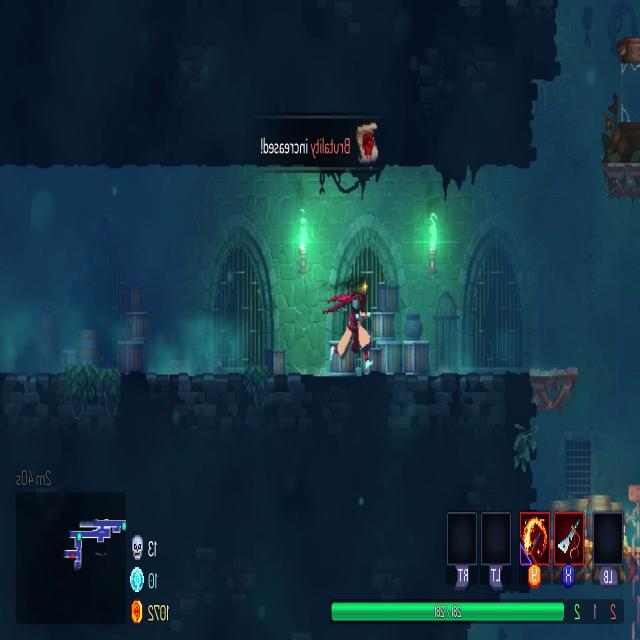agents: (330, 286, 370, 378)
wood_floor: (529, 368, 577, 407)
